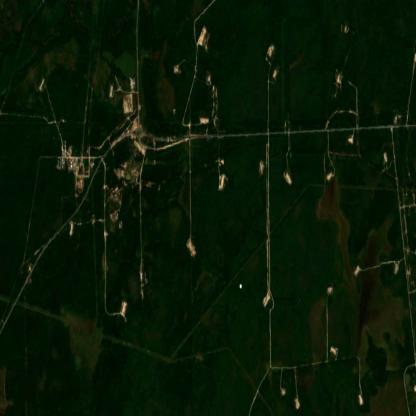oil: (206, 126, 213, 147)
